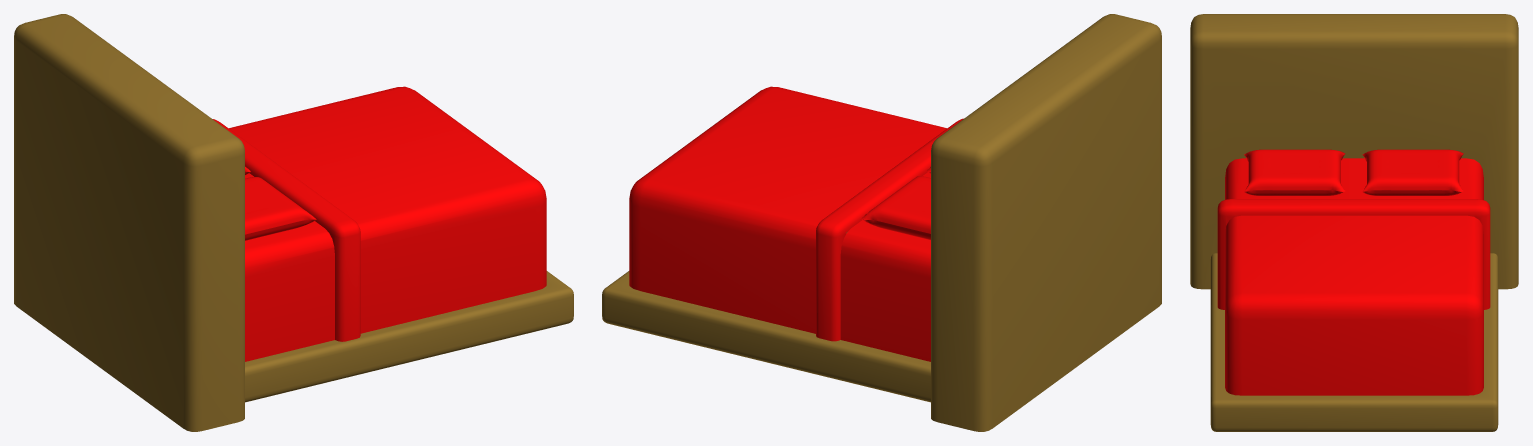
The model's file is Cama.fbx.
3 views of the same model, side by side, from view 1: azimuth 30°, elevation 25°; view 2: azimuth 150°, elevation 25°; view 3: azimuth 270°, elevation 25° (orthographic). The views are drawn at different scales.
Visible parts, largest first — view 1: Cama; view 2: Cama; view 3: Cama.
Boxes of the visible parts, bbox=[...] form: Cama: bbox=[14, 14, 573, 431]; Cama: bbox=[602, 14, 1161, 431]; Cama: bbox=[1190, 14, 1518, 431].
Size of the model in its own units: 226 by 152 by 179.
